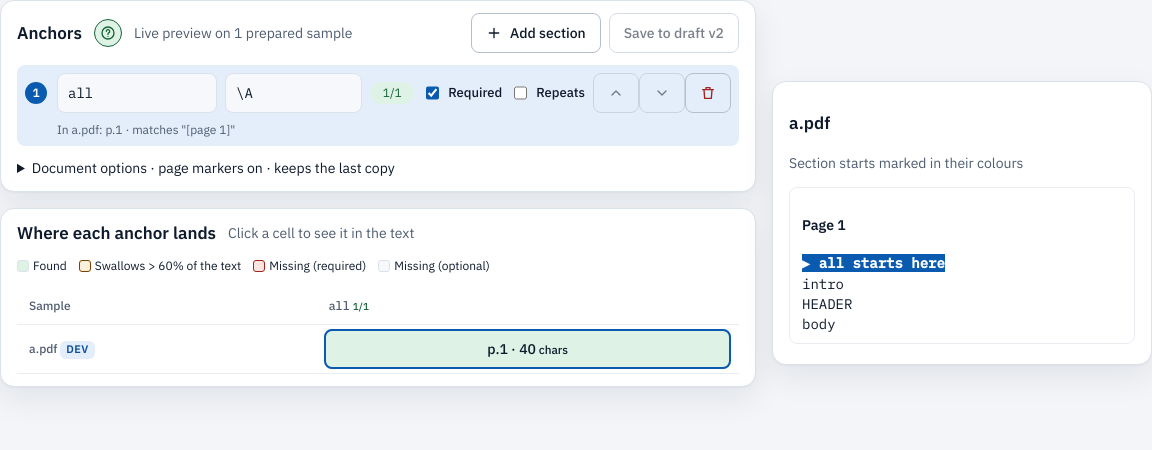
SectionsTab › blocks saving while the latest preview reports a catastrophic anchor
The image size is (1152, 450).
Expected: the button with aria-label "a.pdf · all" is shown, [324,329,731,369]
Type "+" into the field named "Anchor of section 1". click: (294, 93)
box: [225,73,362,113]
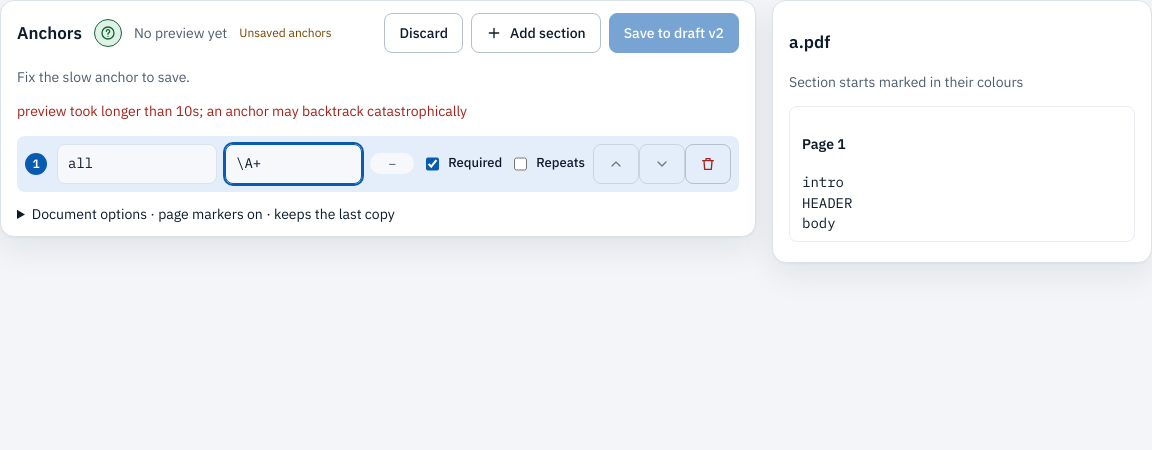
Expected: the button "Save to draft v2" is disabled, [609,13,739,53]
Expected: the message shows "backtrack", [17,102,467,120]
Expected: the text "Fix the slow anchor to save." is shown, [17,68,190,86]
Type "?" into the field named "Anchor of section 1". click: (294, 164)
box: [225,144,362,184]
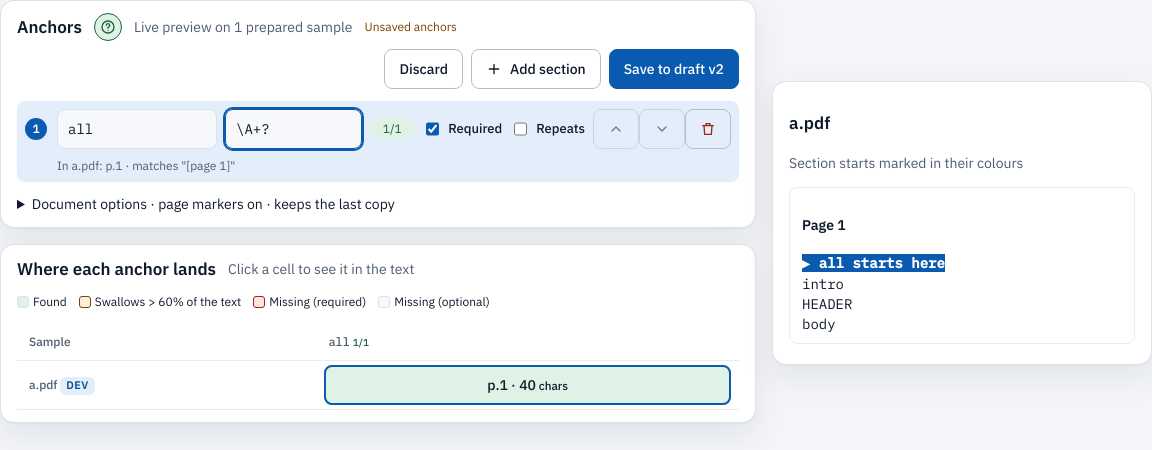
Expected: the button "Save to draft v2" is enabled, [609,49,739,89]
